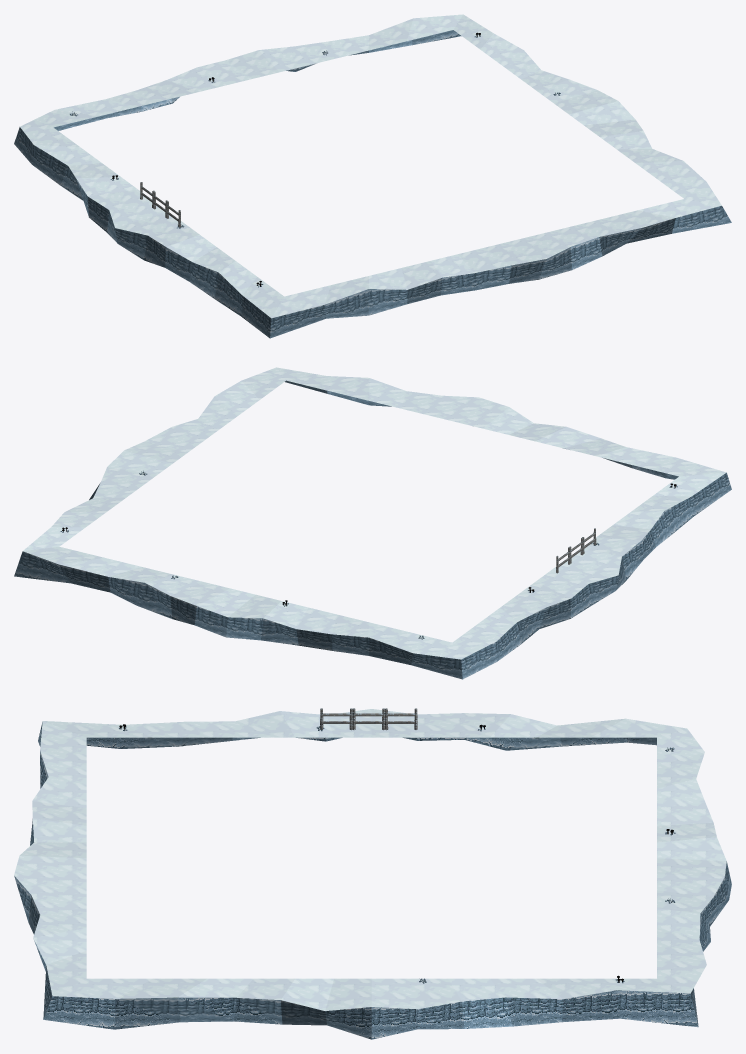
File: entorno_16.fbx
3 renders of one model, top to bottom at view 1: azimuth 30°, elevation 25°; view 2: azimuth 150°, elevation 25°; view 3: azimuth 270°, elevation 25°, orthographic. The views are drawn at different scales.
Parts seen in each view (by area): view 1: neve_entorno_16; view 2: neve_entorno_16; view 3: neve_entorno_16.
Part boxes in pixels (x1=…): neve_entorno_16: x1=14, y1=14, x2=731, y2=338; neve_entorno_16: x1=14, y1=367, x2=731, y2=679; neve_entorno_16: x1=14, y1=708, x2=731, y2=1039.
Size of the model in its own units: 2059 by 170 by 2039.
Materials: 7 (5 with a texture image).
